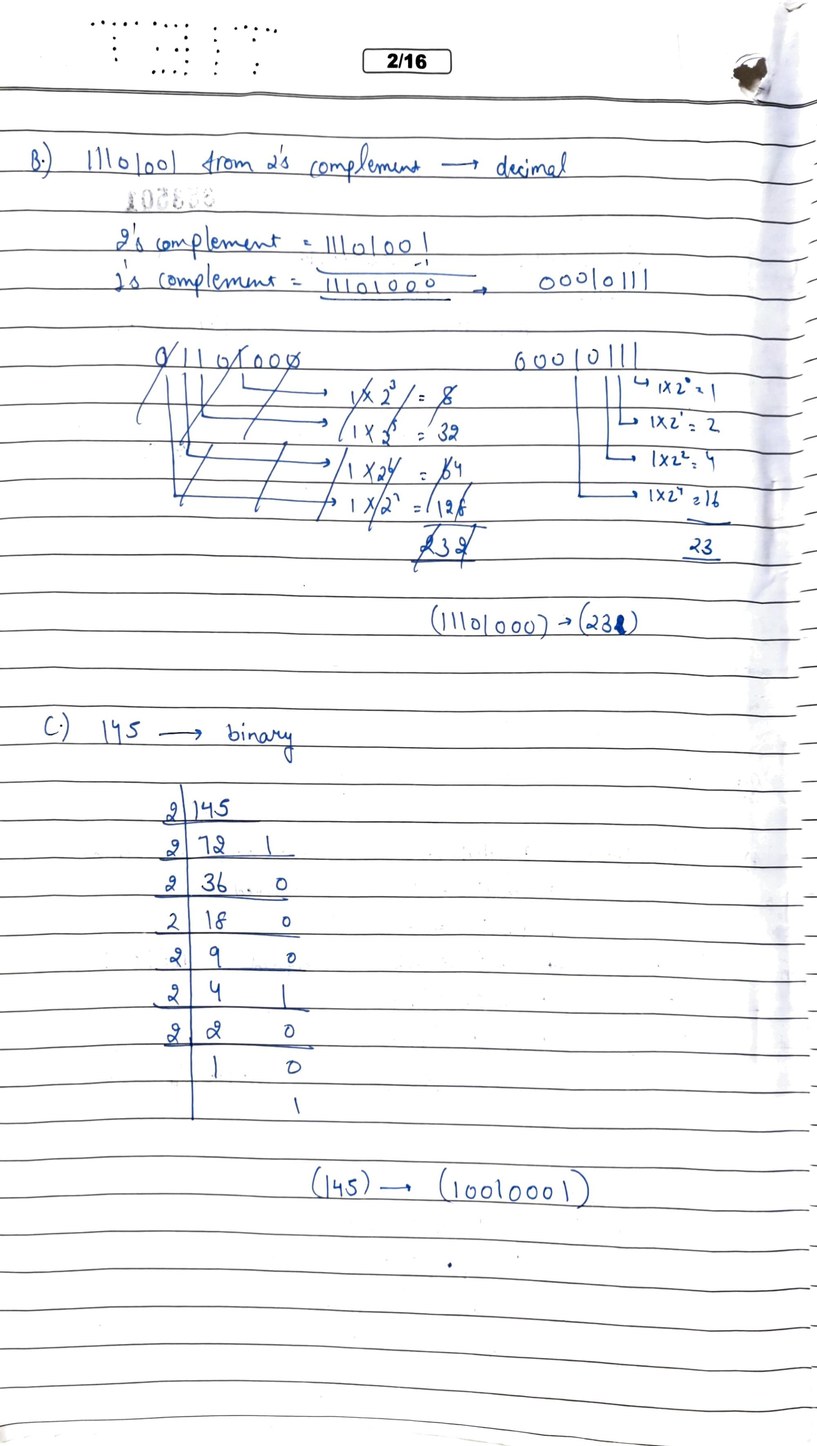cuttings: (134, 338, 493, 573), (613, 611, 627, 636)
